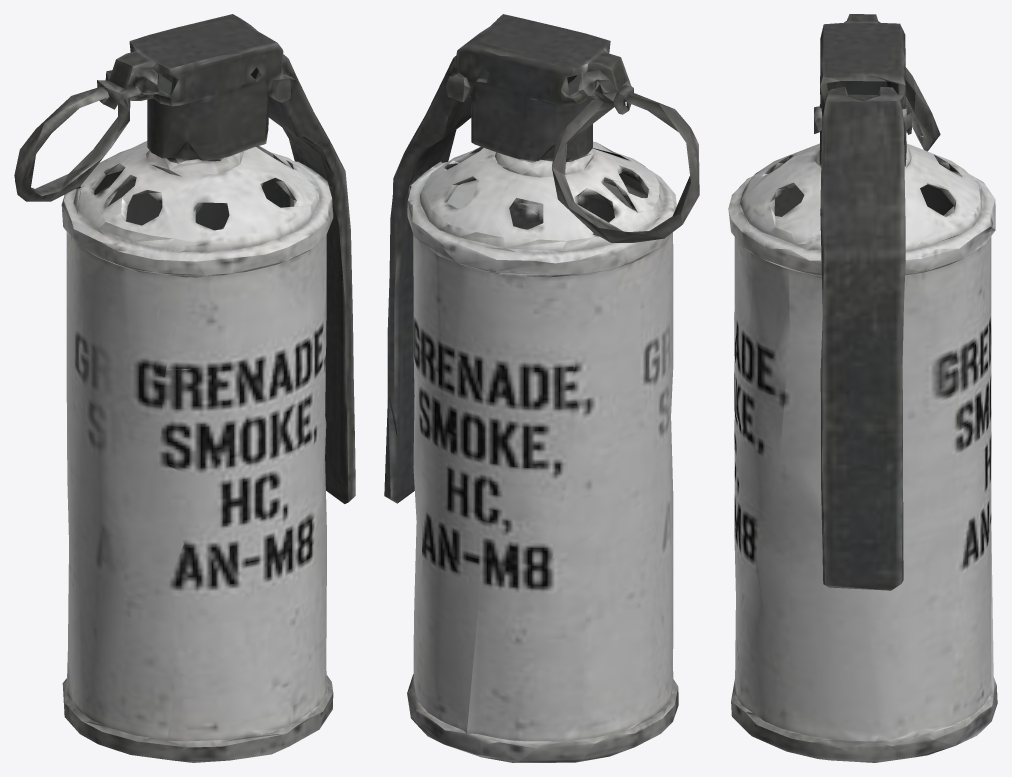
File: an_m8_smoke.glb
3 renders of one model, left to right at view 1: azimuth 30°, elevation 25°; view 2: azimuth 150°, elevation 25°; view 3: azimuth 270°, elevation 25°, orthographic.
Parts seen in each view (by area): view 1: model; view 2: model; view 3: model.
Part boxes in pixels (x1=…): model: x1=14, y1=14, x2=355, y2=762; model: x1=384, y1=14, x2=699, y2=762; model: x1=728, y1=14, x2=997, y2=762.
Size of the model in its own units: 0.073 by 0.15 by 0.0552.
1 material, 1 textured.
